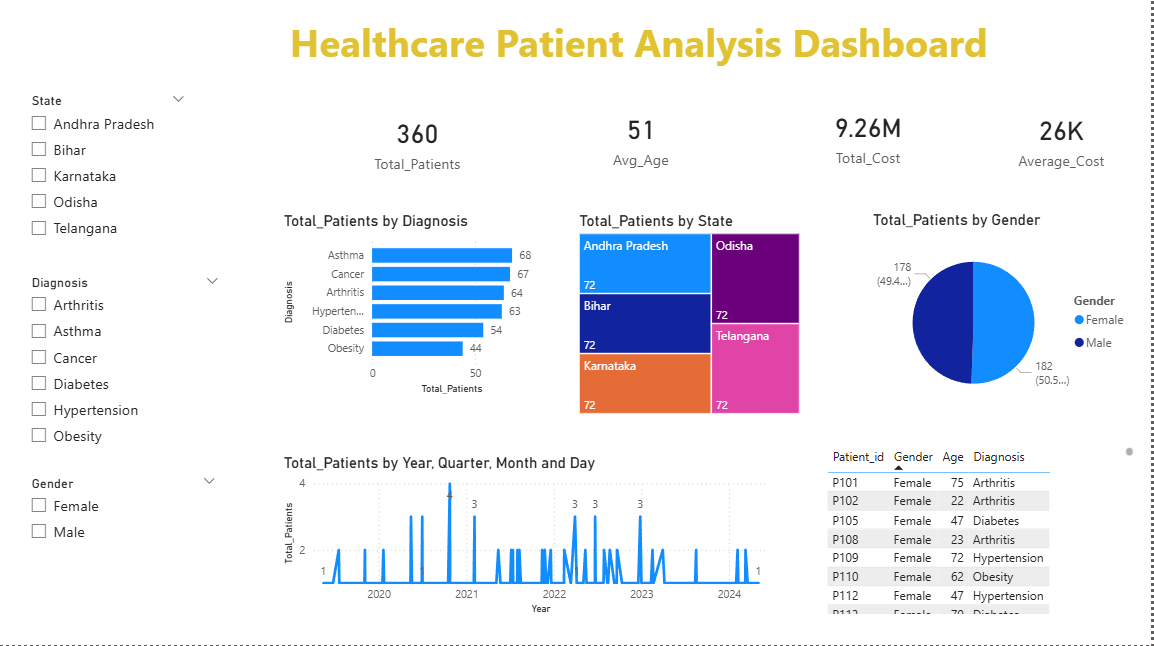

This screenshot's page, from the dashboard's own definition file:
{"tool":"powerbi","page":{"name":"Page 1","canvas":[1280,720],"ordinal":0},"visuals":[{"type":"clusteredBarChart","fields":{"Y":["Healthcare_dataset.Total_Patients"],"Category":["Healthcare_dataset.Diagnosis"]},"box":[312.6,239.2,292.1,206.7],"z":0},{"type":"pieChart","fields":{"Y":["Healthcare_dataset.Total_Patients"],"Category":["Healthcare_dataset.Gender"]},"box":[966.9,237.4,298.9,230.6],"z":1000},{"type":"lineChart","fields":{"Y":["Healthcare_dataset.Total_Patients"],"Category":["Healthcare_dataset.Date_of_Admission.Variation.Date Hierarchy.Year","Healthcare_dataset.Date_of_Admission.Variation.Date Hierarchy.Quarter","Healthcare_dataset.Date_of_Admission.Variation.Date Hierarchy.Month","Healthcare_dataset.Date_of_Admission.Variation.Date Hierarchy.Day"]},"box":[312.6,507.3,550.1,182.8],"z":2000},{"type":"card","fields":{"Values":["Healthcare_dataset.Total_Patients"]},"box":[355.3,105.9,218.7,111],"z":3000},{"type":"card","fields":{"Values":["Healthcare_dataset.Avg_Age"]},"box":[604.7,104.2,216.9,104.2],"z":4000},{"type":"card","fields":{"Values":["Healthcare_dataset.Total_Cost"]},"box":[875.5,105.7,181.1,96.2],"z":5000},{"type":"card","fields":{"Values":["Healthcare_dataset.Average_Cost"]},"box":[1083,109.4,196.2,96.2],"z":6000},{"type":"slicer","fields":{"Values":["Healthcare_dataset.State"]},"box":[23.9,49.5,194.7,187.9],"z":7000},{"type":"slicer","fields":{"Values":["Healthcare_dataset.Diagnosis"]},"box":[20.5,237.4,232.3,203.3],"z":8000},{"type":"tableEx","fields":{"Values":["Healthcare_dataset.Patient_id","Healthcare_dataset.Gender","Healthcare_dataset.Age","Healthcare_dataset.Diagnosis"]},"box":[915.6,495.4,350.2,194.7],"z":9000},{"type":"slicer","fields":{"Values":["Healthcare_dataset.Gender"]},"box":[23.9,449.3,228.9,109.3],"z":10000},{"type":"textbox","box":[158.5,15.1,1107.5,86.8],"z":11000},{"type":"treemap","fields":{"Values":["Healthcare_dataset.Total_Patients"],"Group":["Healthcare_dataset.State"]},"box":[640.6,239.2,254.5,228.9],"z":12000},{"type":"slicer","fields":{"Values":["Healthcare_dataset.Date_of_Admission"]},"box":[23.9,575.7,194.7,128.1],"z":13000}]}

Visuals, with their boxes in screenshot pixels (x1, y1, x2, y2), scaled from the page's 1280x720 canvas onto the 1154x646 screenshot:
clusteredBarChart - Healthcare_dataset.Total_Patients x Healthcare_dataset.Diagnosis: (x1=282, y1=215, x2=545, y2=400)
pieChart - Healthcare_dataset.Total_Patients x Healthcare_dataset.Gender: (x1=872, y1=213, x2=1141, y2=420)
lineChart - Healthcare_dataset.Total_Patients x Healthcare_dataset.Date_of_Admission.Variation.Date Hierarchy.Year: (x1=282, y1=455, x2=778, y2=619)
card - Healthcare_dataset.Total_Patients: (x1=320, y1=95, x2=517, y2=195)
card - Healthcare_dataset.Avg_Age: (x1=545, y1=93, x2=741, y2=187)
card - Healthcare_dataset.Total_Cost: (x1=789, y1=95, x2=953, y2=181)
card - Healthcare_dataset.Average_Cost: (x1=976, y1=98, x2=1153, y2=184)
slicer - Healthcare_dataset.State: (x1=22, y1=44, x2=197, y2=213)
slicer - Healthcare_dataset.Diagnosis: (x1=18, y1=213, x2=228, y2=395)
tableEx - Healthcare_dataset.Patient_id x Healthcare_dataset.Gender: (x1=825, y1=444, x2=1141, y2=619)
slicer - Healthcare_dataset.Gender: (x1=22, y1=403, x2=228, y2=501)
textbox: (x1=143, y1=14, x2=1141, y2=91)
treemap - Healthcare_dataset.Total_Patients x Healthcare_dataset.State: (x1=578, y1=215, x2=807, y2=420)
slicer - Healthcare_dataset.Date_of_Admission: (x1=22, y1=517, x2=197, y2=631)
